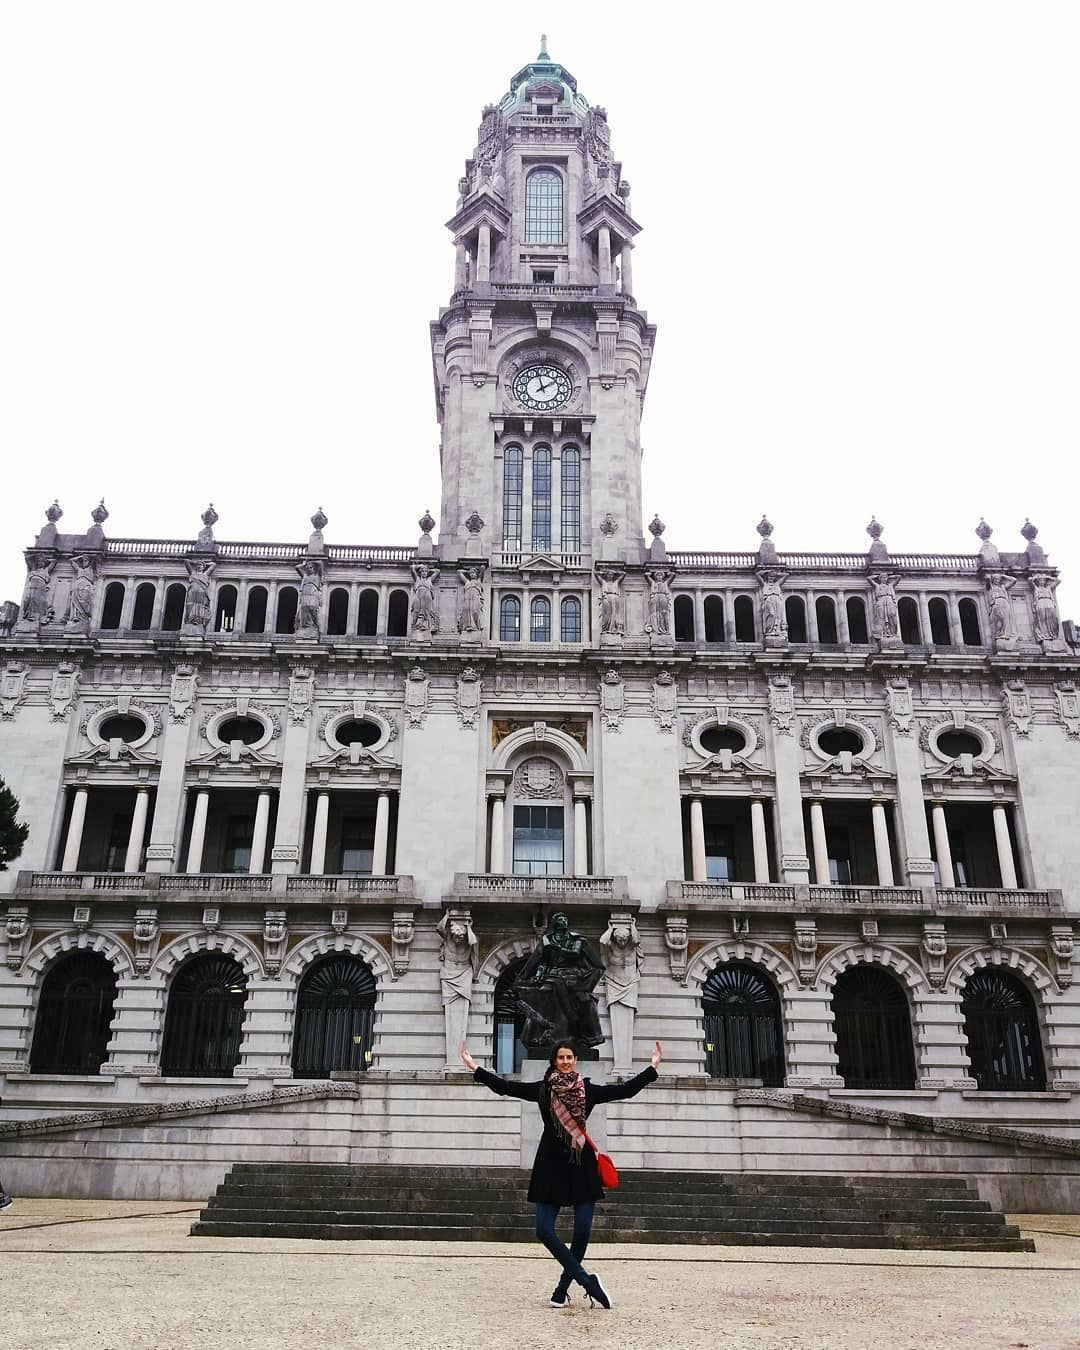camara: (0, 30, 1079, 1148)
